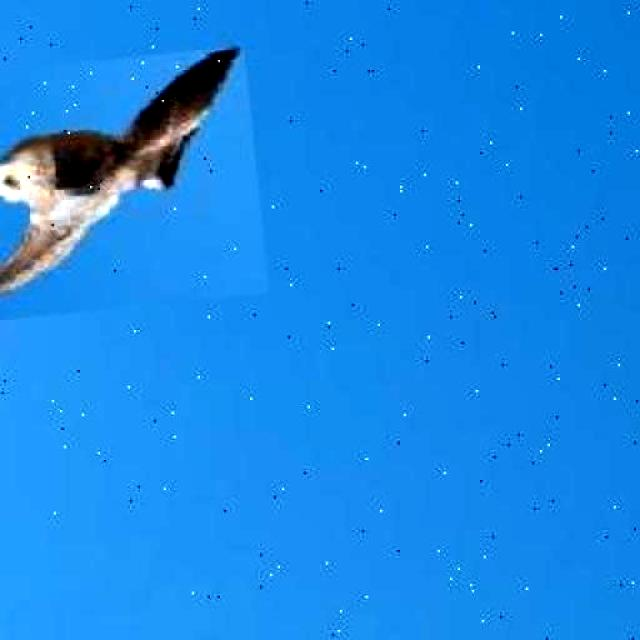airplane: (0, 45, 269, 328)
